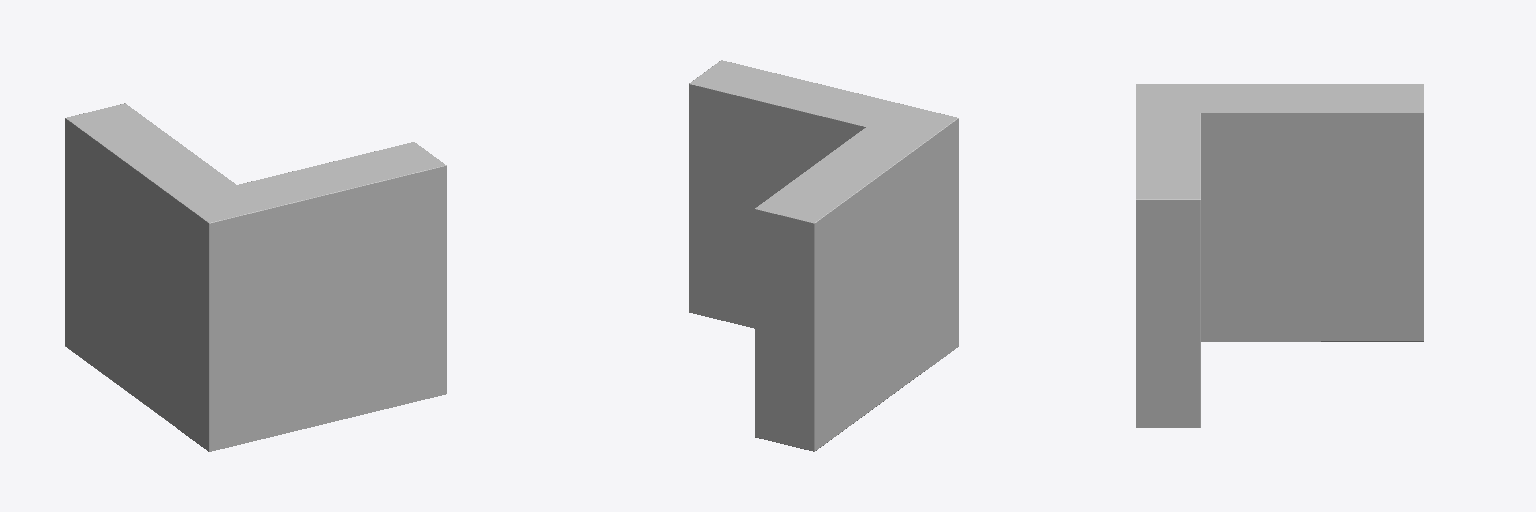
The model's file is Room_02_Platform_01.obj.
3 renders of one model, left to right at view 1: azimuth 30°, elevation 25°; view 2: azimuth 150°, elevation 25°; view 3: azimuth 270°, elevation 25°, orthographic.
Visible parts, largest first — view 1: Room_02_Platform_01_Cube.017; view 2: Room_02_Platform_01_Cube.017; view 3: Room_02_Platform_01_Cube.017.
Part boxes in pixels (left/top/right/bottom): Room_02_Platform_01_Cube.017: left=65, top=103, right=446, bottom=451; Room_02_Platform_01_Cube.017: left=689, top=60, right=958, bottom=451; Room_02_Platform_01_Cube.017: left=1136, top=84, right=1423, bottom=427.
Size of the model in its own units: 11.68 by 10.75 by 12.27.